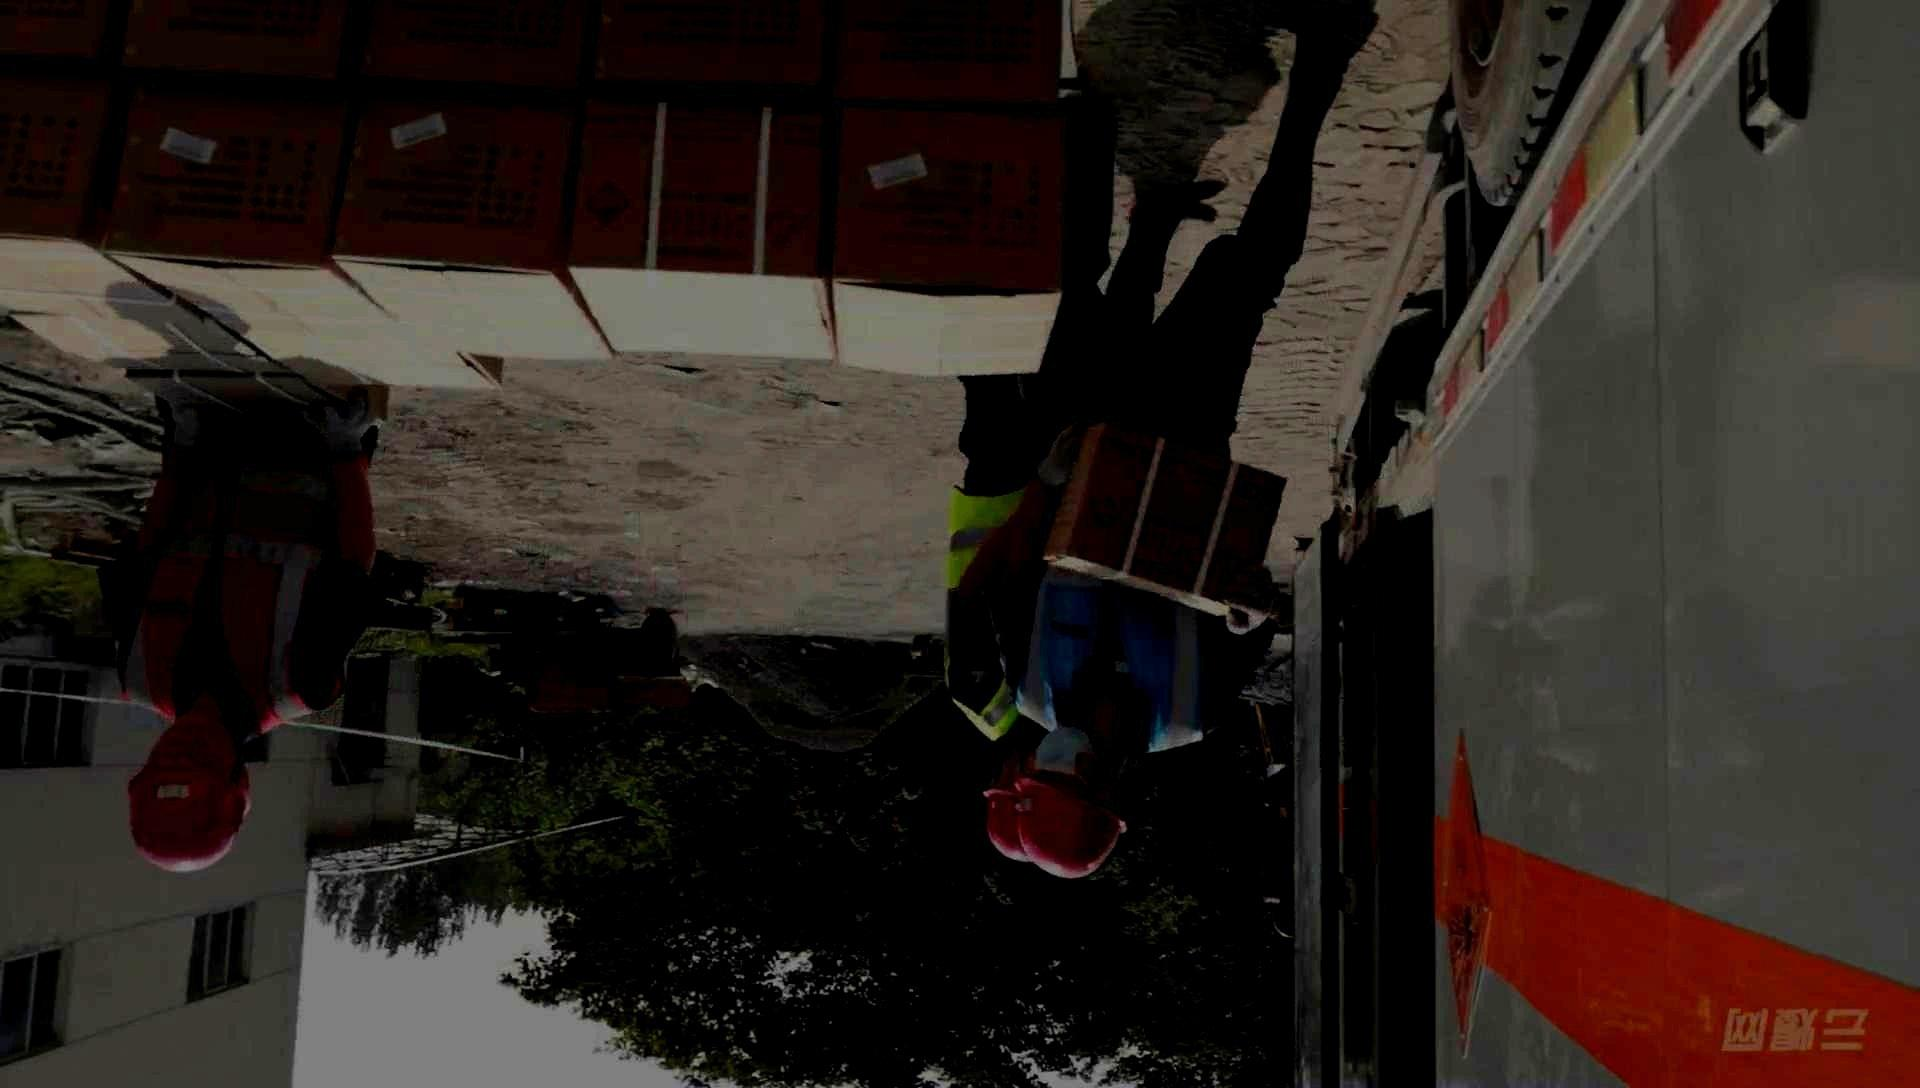helmet: (127, 715, 252, 874), (1013, 724, 1127, 877), (981, 757, 1034, 862)
